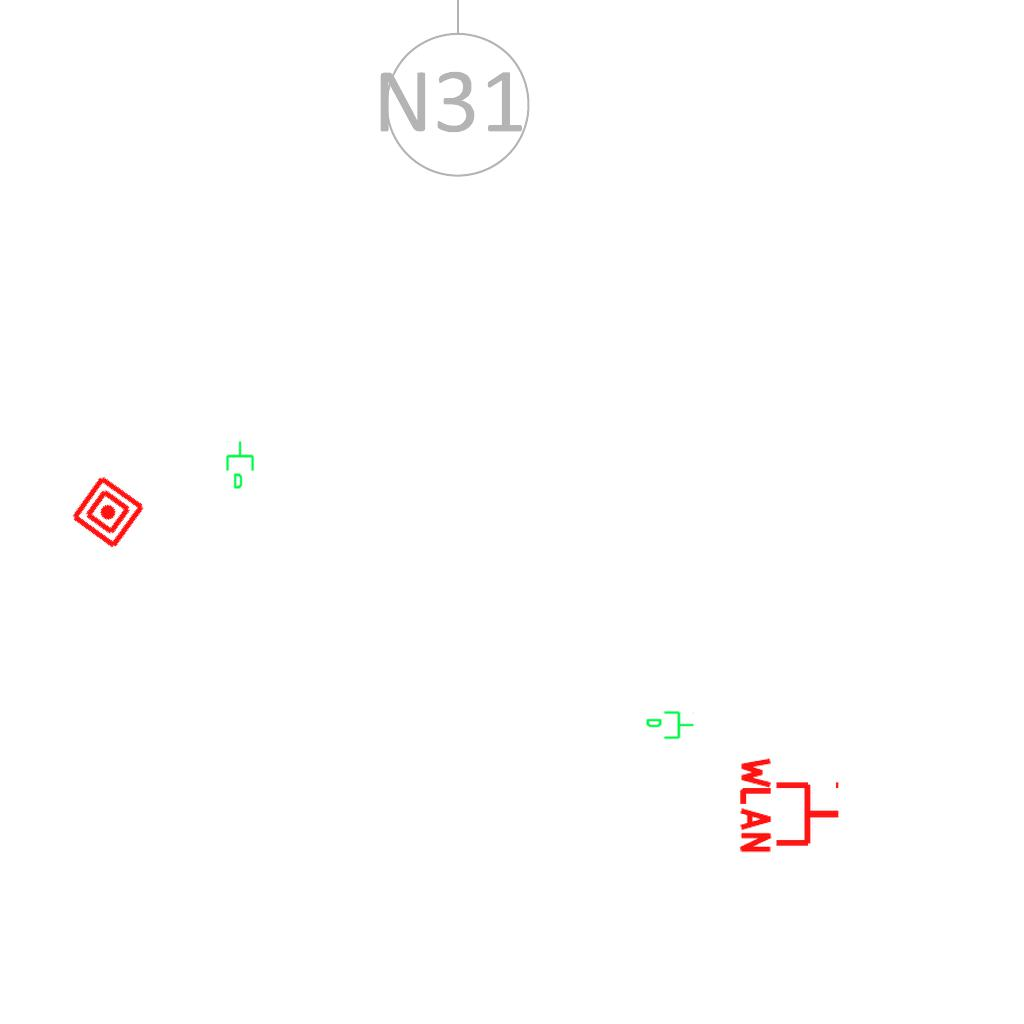Datenanschluss_einfach: (224, 440, 258, 490), (645, 709, 695, 743)
NAM-Nichtautomatischer_Melder: (68, 472, 148, 552)
WLAN: (738, 753, 843, 857)
